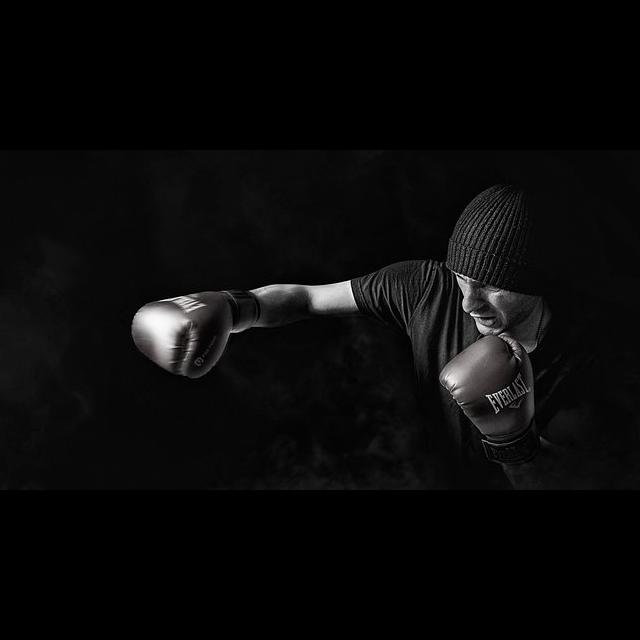male: (383, 184, 568, 373)
